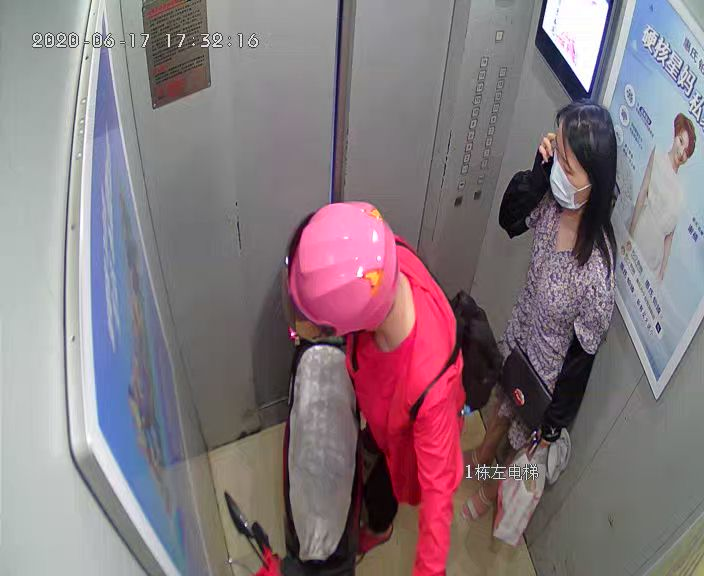Electric-bicycle: (225, 325, 392, 576)
